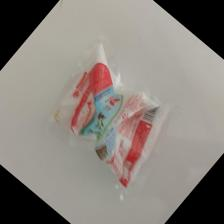Ajinomoto: (49, 37, 175, 203)
